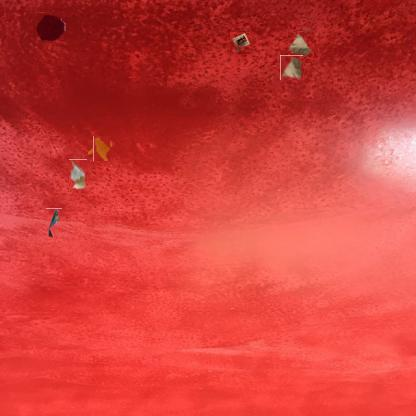dirty: (288, 31, 314, 59), (279, 56, 304, 80), (69, 159, 87, 190), (230, 32, 252, 54), (46, 208, 62, 237)
liquid: (34, 12, 66, 42), (91, 138, 112, 159)
